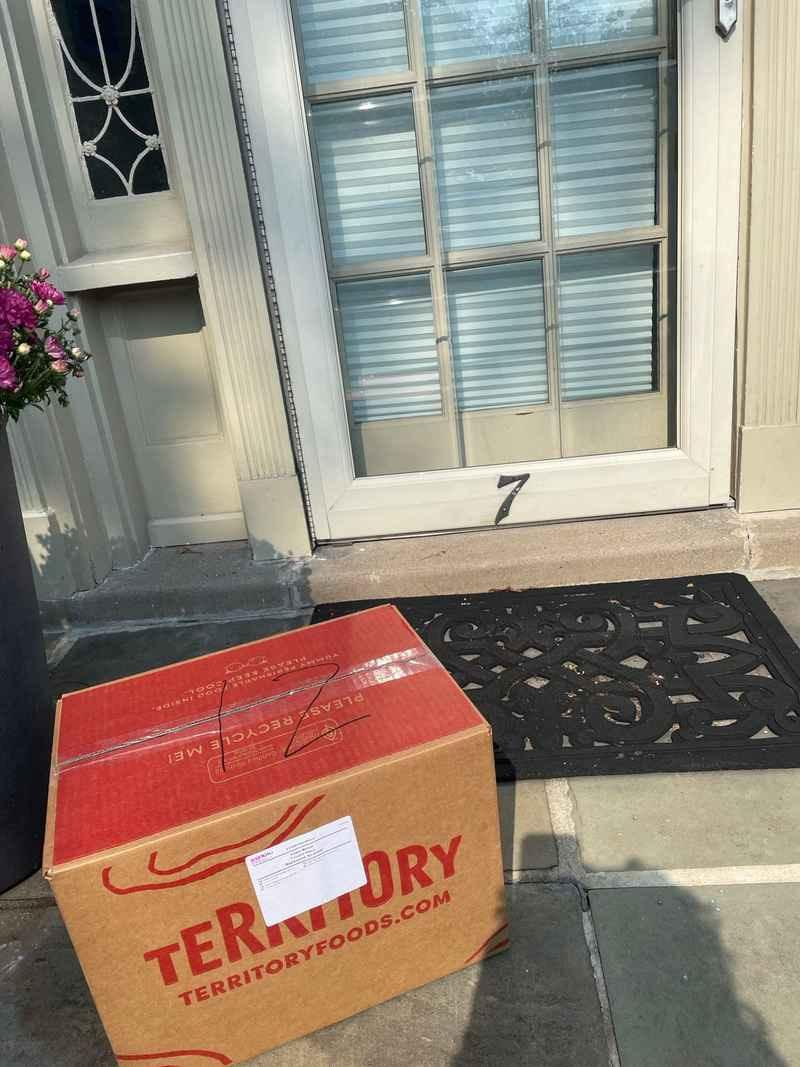package: (50, 598, 537, 1067)
